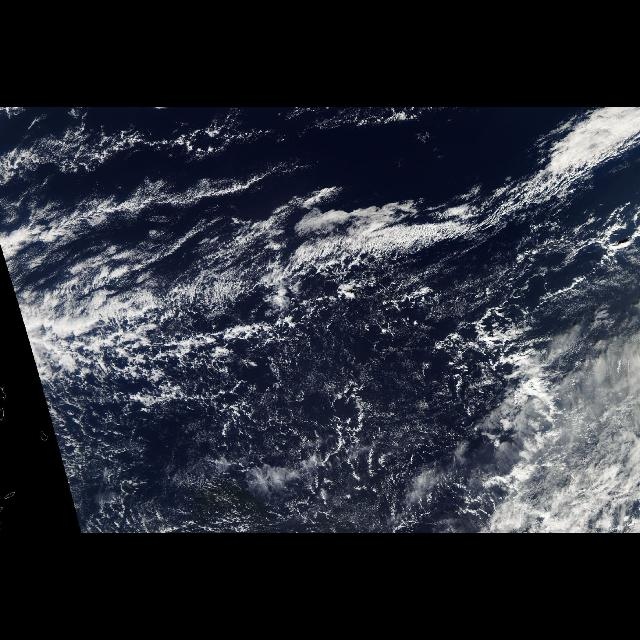Fish: (50, 112, 624, 318)
